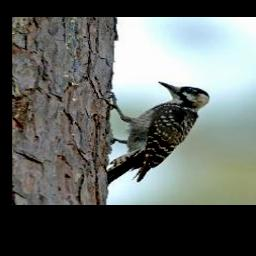Woodpecker: (96, 81, 214, 188)
